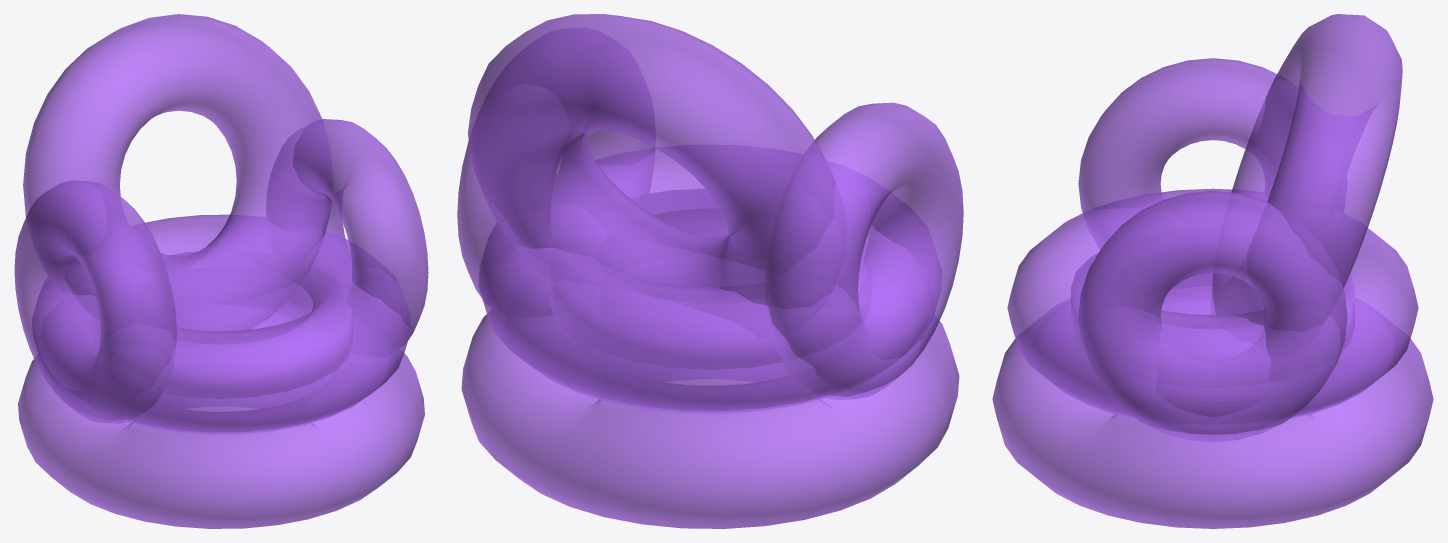
The model's file is Furn_Armchair.fbx.
3 renders of one model, left to right at view 1: azimuth 30°, elevation 25°; view 2: azimuth 150°, elevation 25°; view 3: azimuth 270°, elevation 25°, orthographic. The views are drawn at different scales.
Parts seen in each view (by area): view 1: Furn_Armchair; view 2: Furn_Armchair; view 3: Furn_Armchair.
Boxes of the visible parts, box(x1,y1,x2,y2) form: Furn_Armchair: box(14, 14, 428, 528); Furn_Armchair: box(457, 14, 963, 528); Furn_Armchair: box(992, 14, 1433, 528).
Size of the model in its own units: 1.18 by 1.26 by 1.18.
